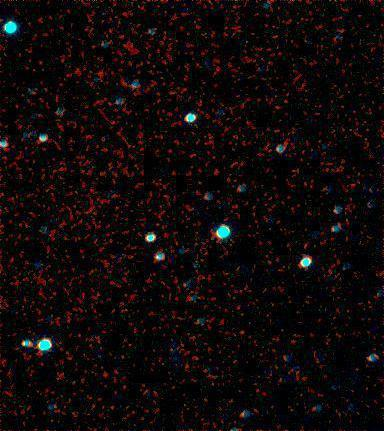star: (87, 60, 117, 90)
